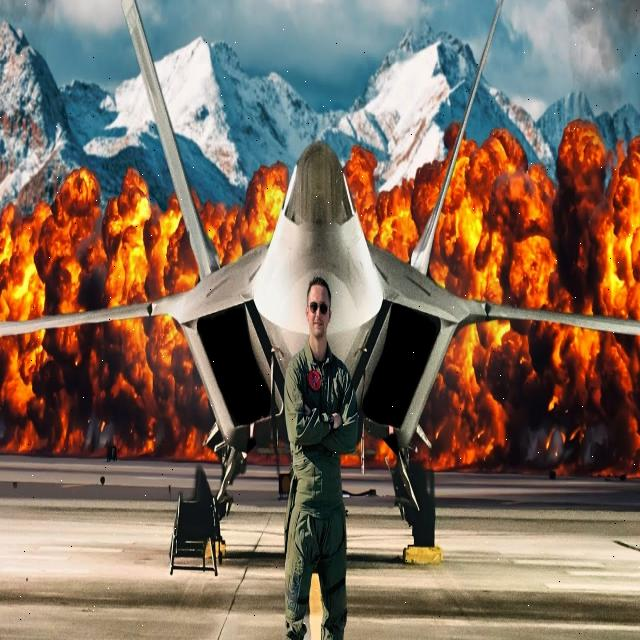F22: (0, 4, 638, 559)
